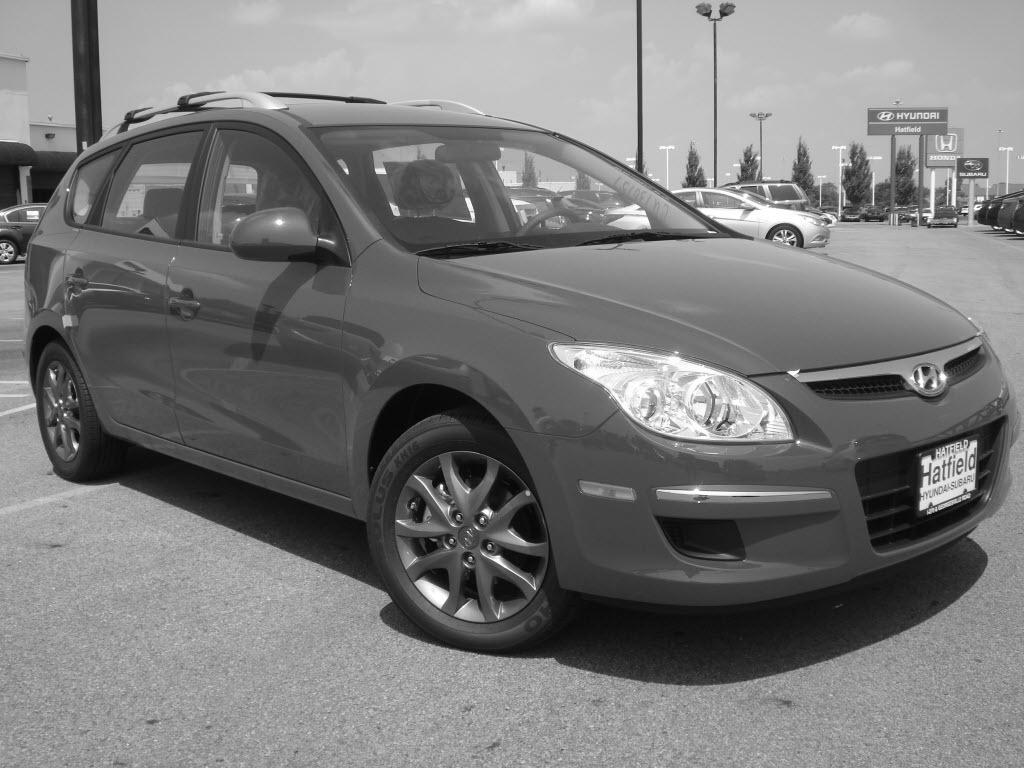car: (12, 106, 1022, 661)
